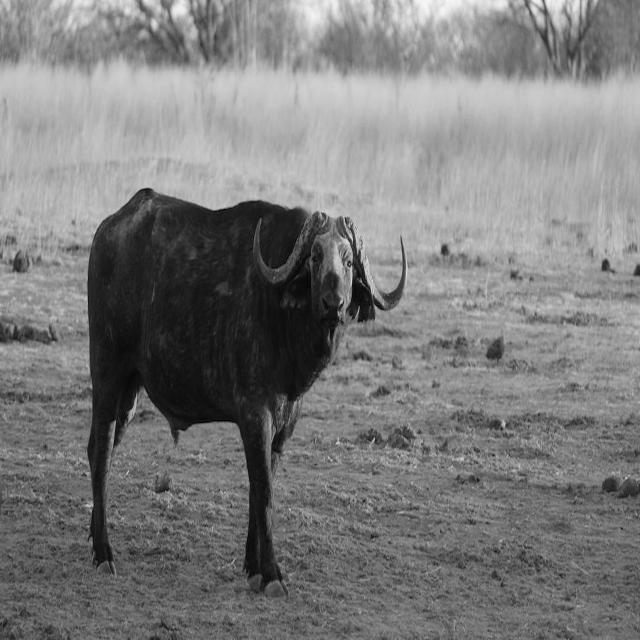Buffalo: (85, 183, 410, 601)
